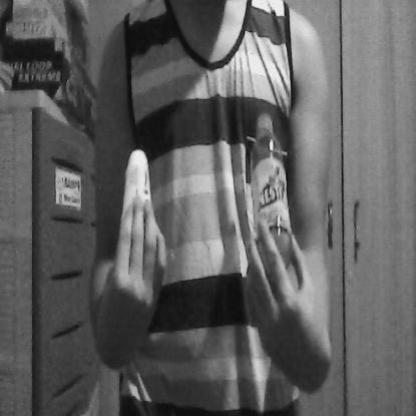Plastic Bottle: (243, 105, 297, 266)
